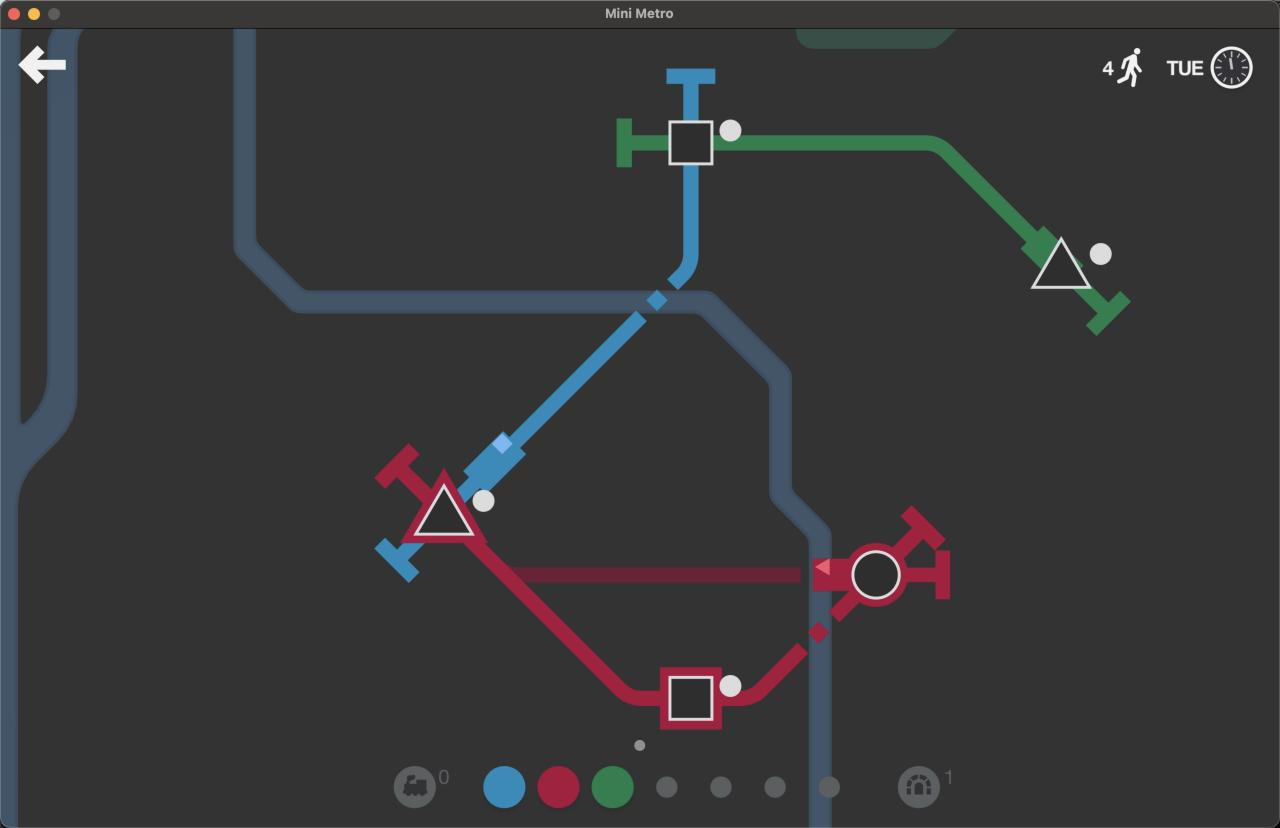CIRCLE: (850, 547, 903, 602)
SQUARE: (659, 667, 722, 729), (668, 119, 715, 167)
TRIANGLE: (408, 476, 482, 540), (1029, 235, 1093, 291)
